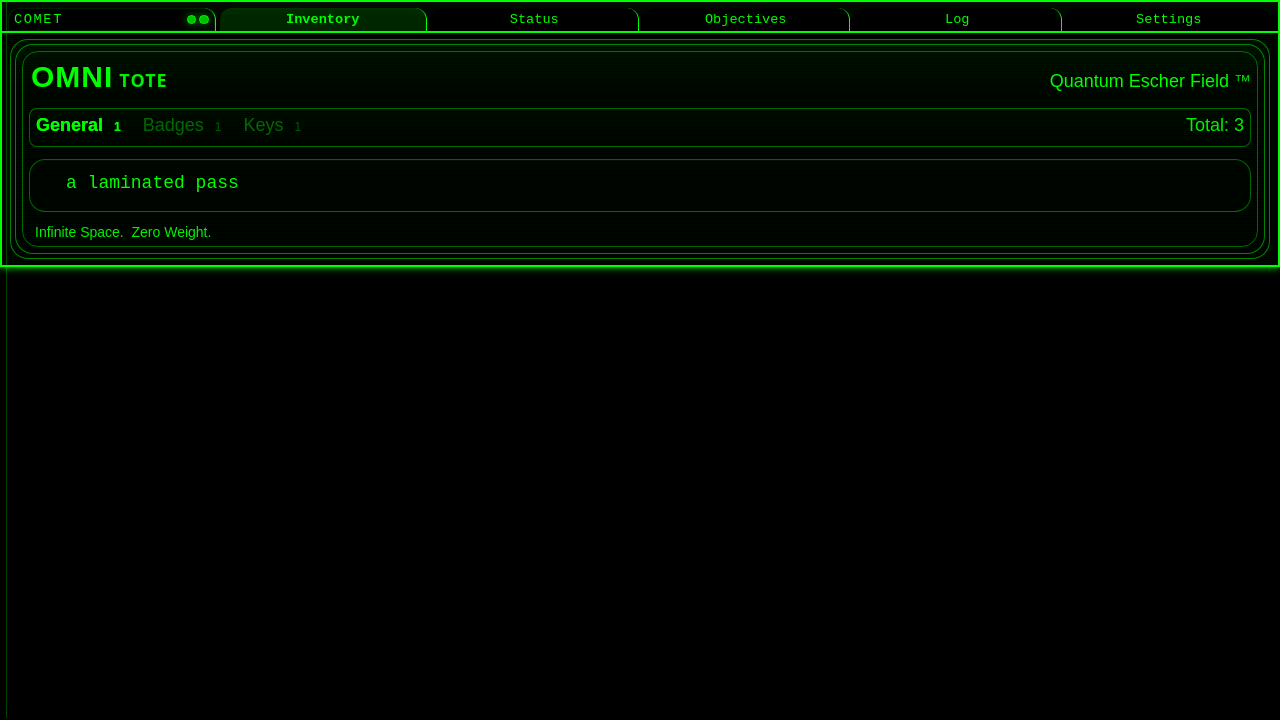
Test case: UI panels › groups inventory items by general, badges, and keys
Expected: the text "a laminated pass" is shown, [66,173,239,193]
Expected: the text "a blue plastic badge" is not shown
Click the tab "Badges 1". click: (174, 126)
box: [127,115,222,136]
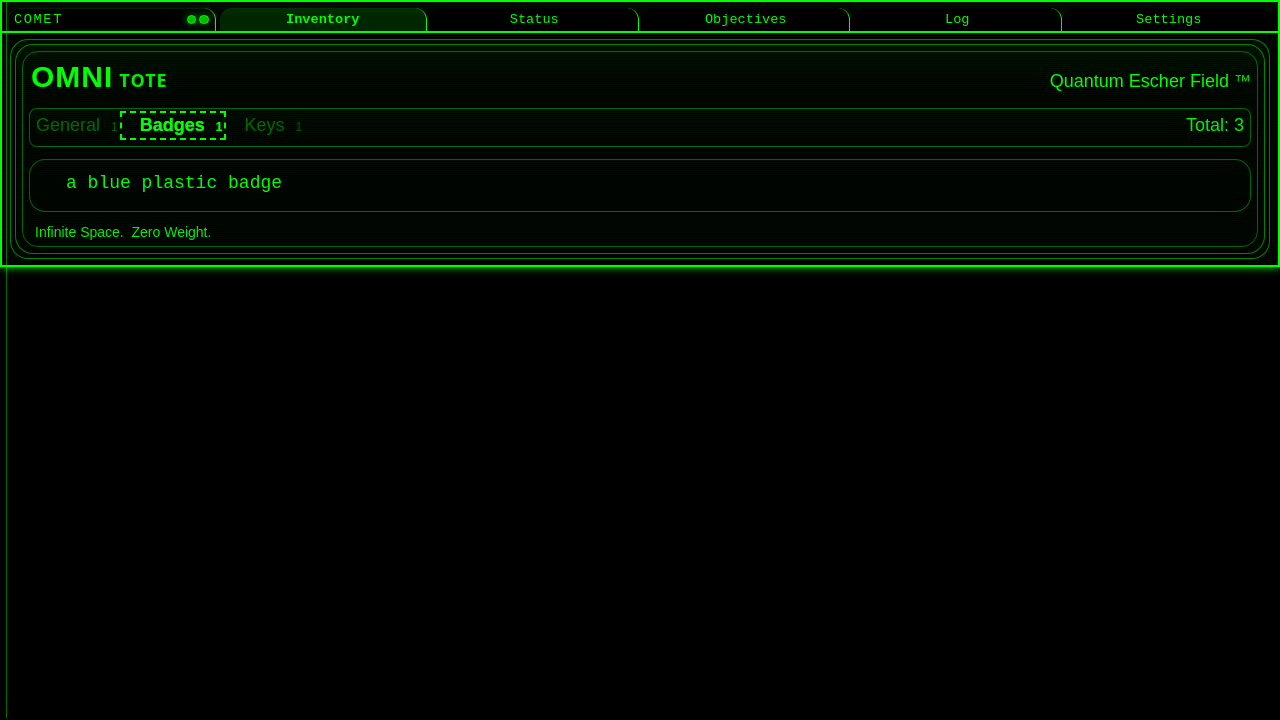
Expected: the text "a blue plastic badge" is shown, [66,173,282,193]
Click the tab "Keys 1". click: (265, 126)
box: [228,115,302,136]
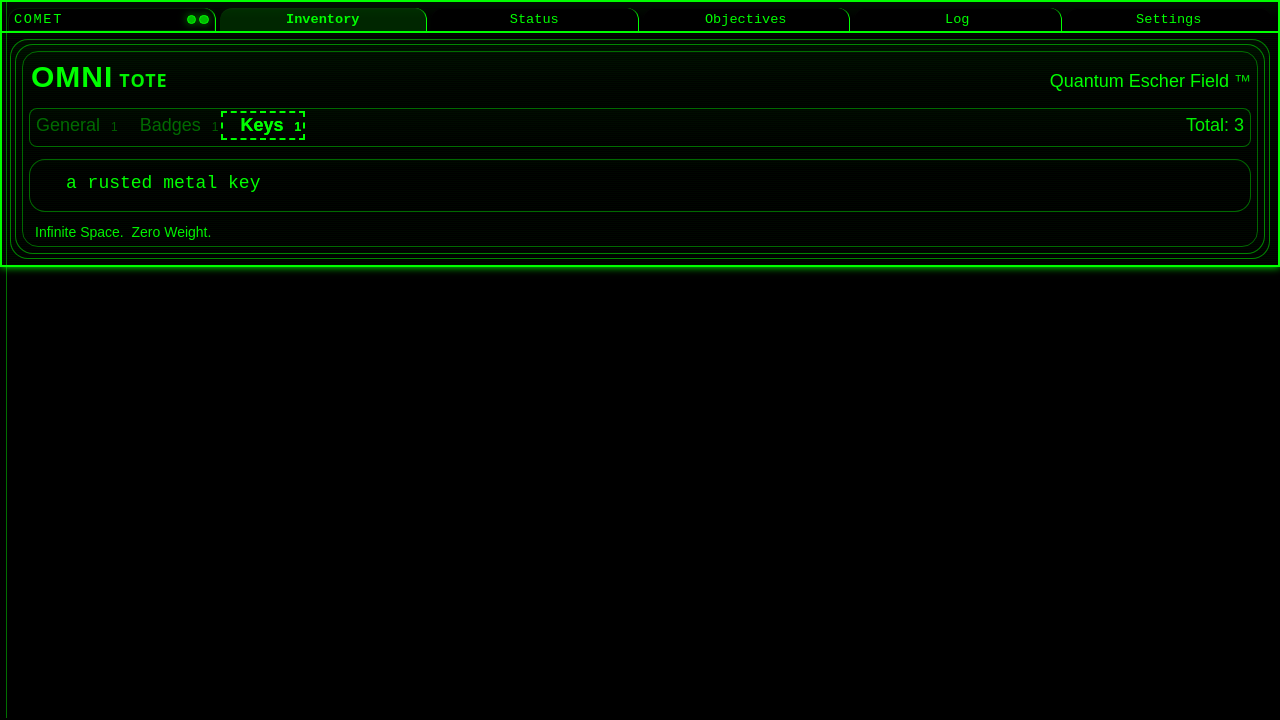
Expected: the text "a rusted metal key" is shown, [66,173,260,193]
